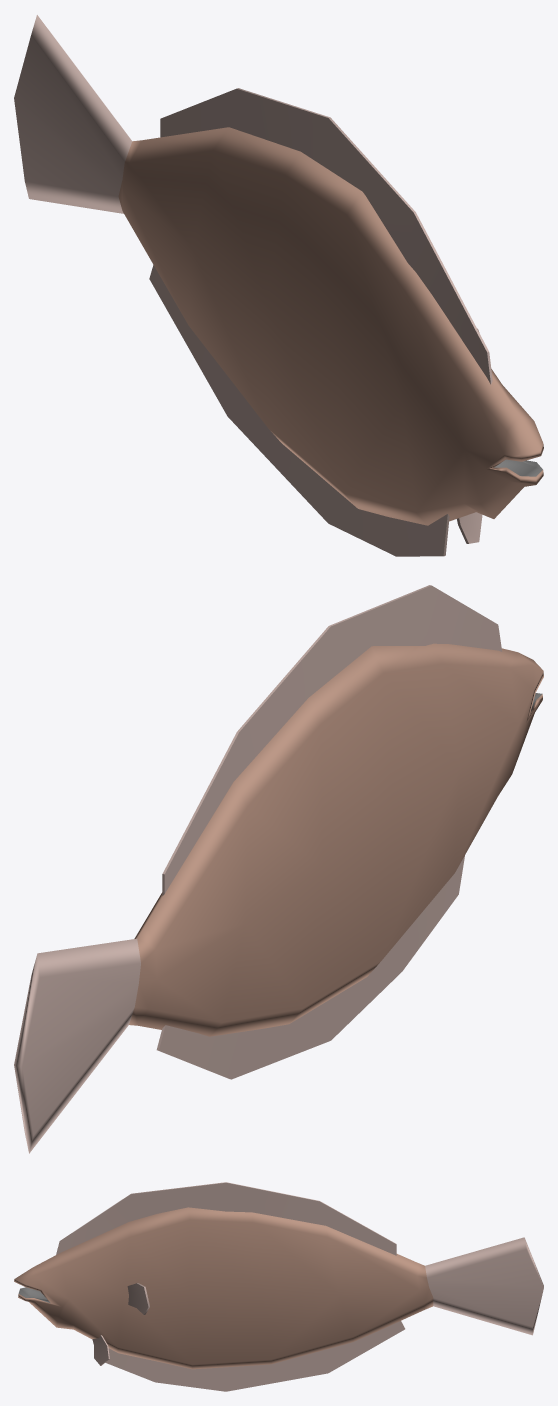
File: fish2.fbx
The picture shows the model from 3 angles, top to bottom: view 1: azimuth 30°, elevation 25°; view 2: azimuth 150°, elevation 25°; view 3: azimuth 270°, elevation 25°; orthographic projection. The views are drawn at different scales.
Visible parts, largest first — view 1: Fish2; view 2: Fish2; view 3: Fish2.
Boxes of the visible parts, x1,y1,x2,y2 form: Fish2: (14,15,543,556); Fish2: (14,585,543,1153); Fish2: (14,1182,543,1391).
Size of the model in its own units: 5.85 by 20.63 by 47.37.
